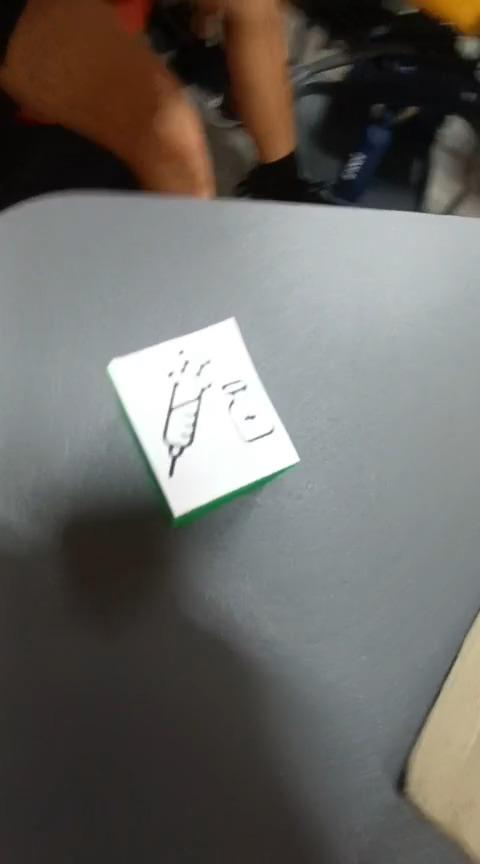antiseptic cream: (105, 314, 300, 528)
